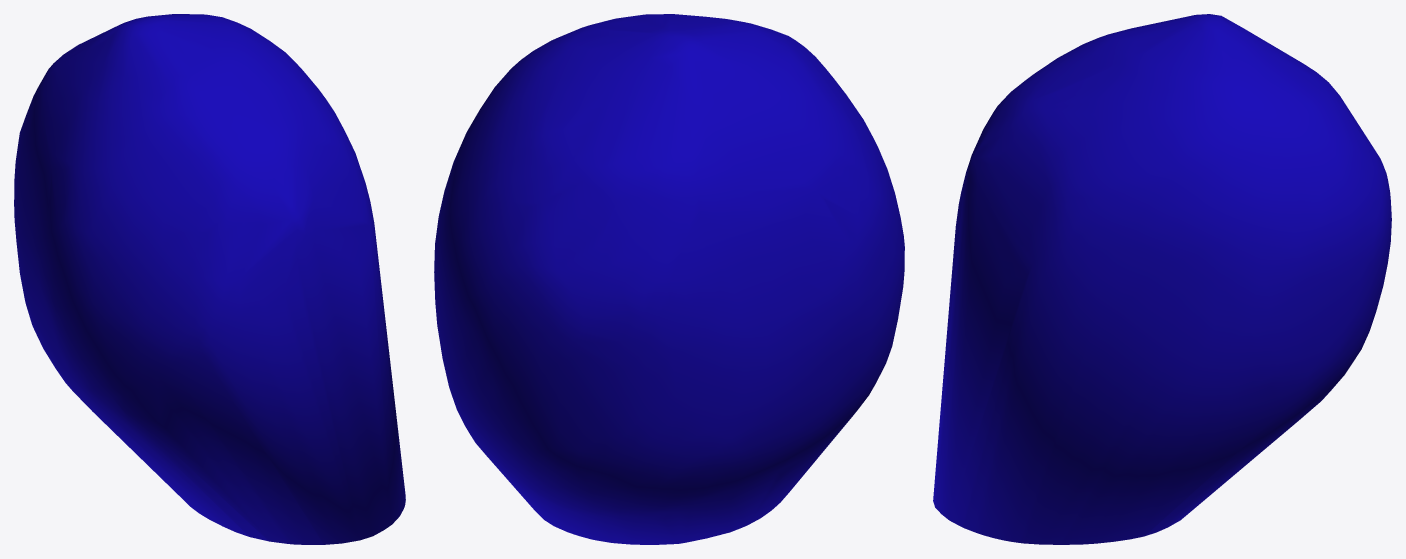
The model's file is bee_toy_1_coacd_single_link_urdf_convex_piece_5.obj.
The picture shows the model from 3 angles, left to right: view 1: azimuth 30°, elevation 25°; view 2: azimuth 150°, elevation 25°; view 3: azimuth 270°, elevation 25°; orthographic projection. The views are drawn at different scales.
Size of the model in its own units: 0.0522 by 0.0713 by 0.067.
